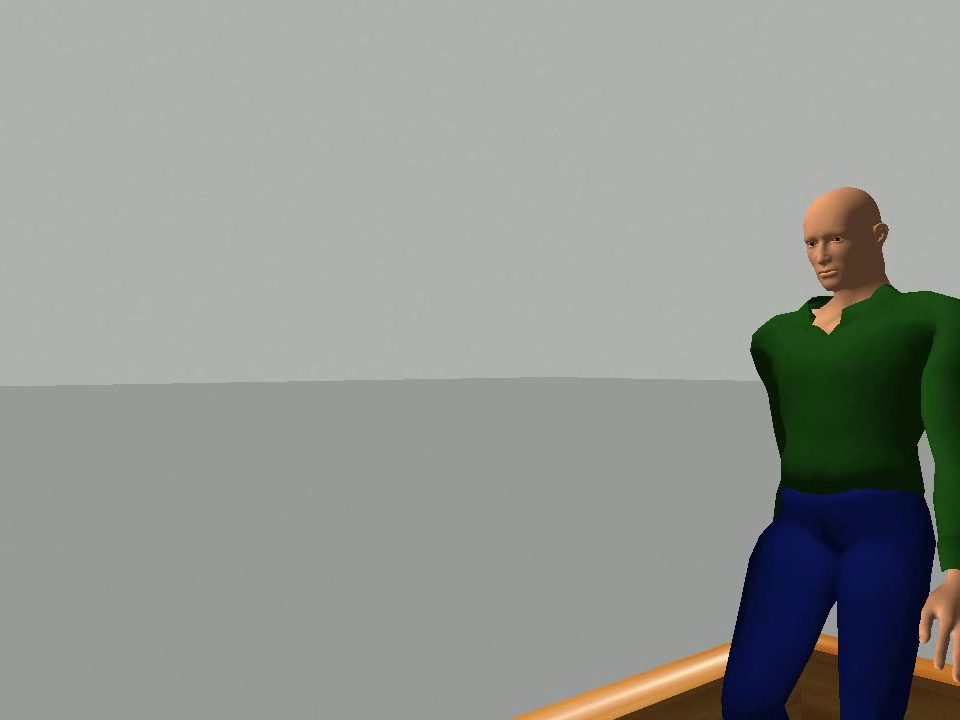person: (716, 183, 960, 720)
